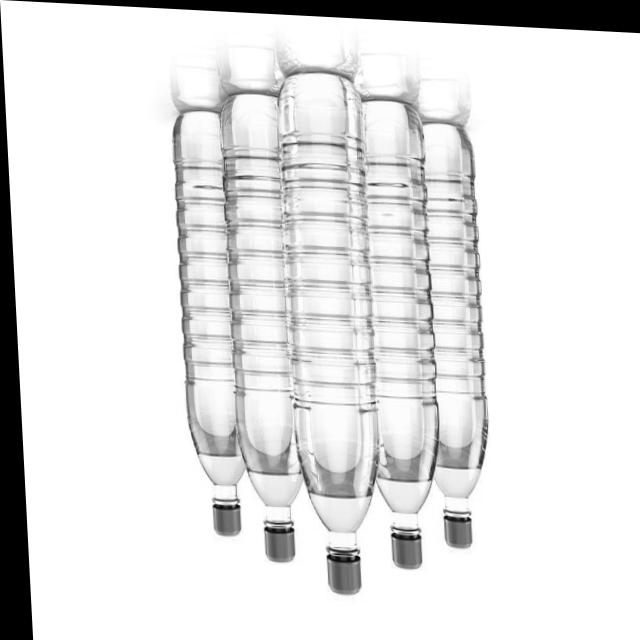bottle: (275, 64, 383, 593), (213, 83, 314, 566), (352, 91, 442, 568), (167, 107, 262, 541), (401, 115, 492, 549)
